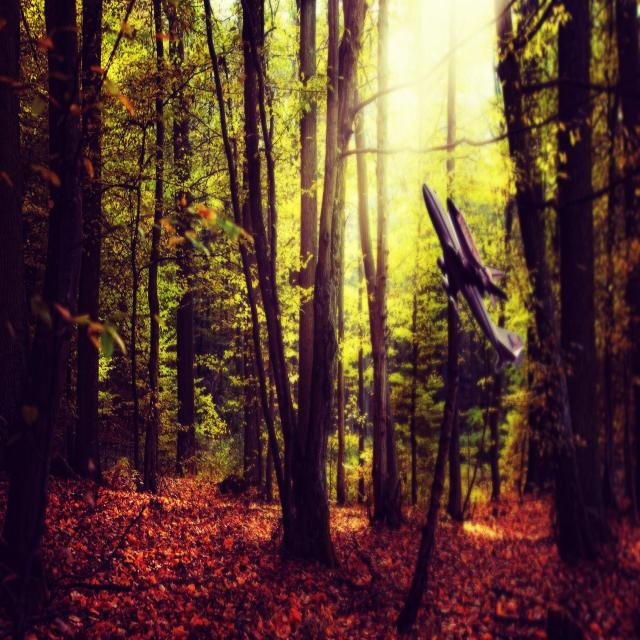airplane: (422, 182, 524, 374)
